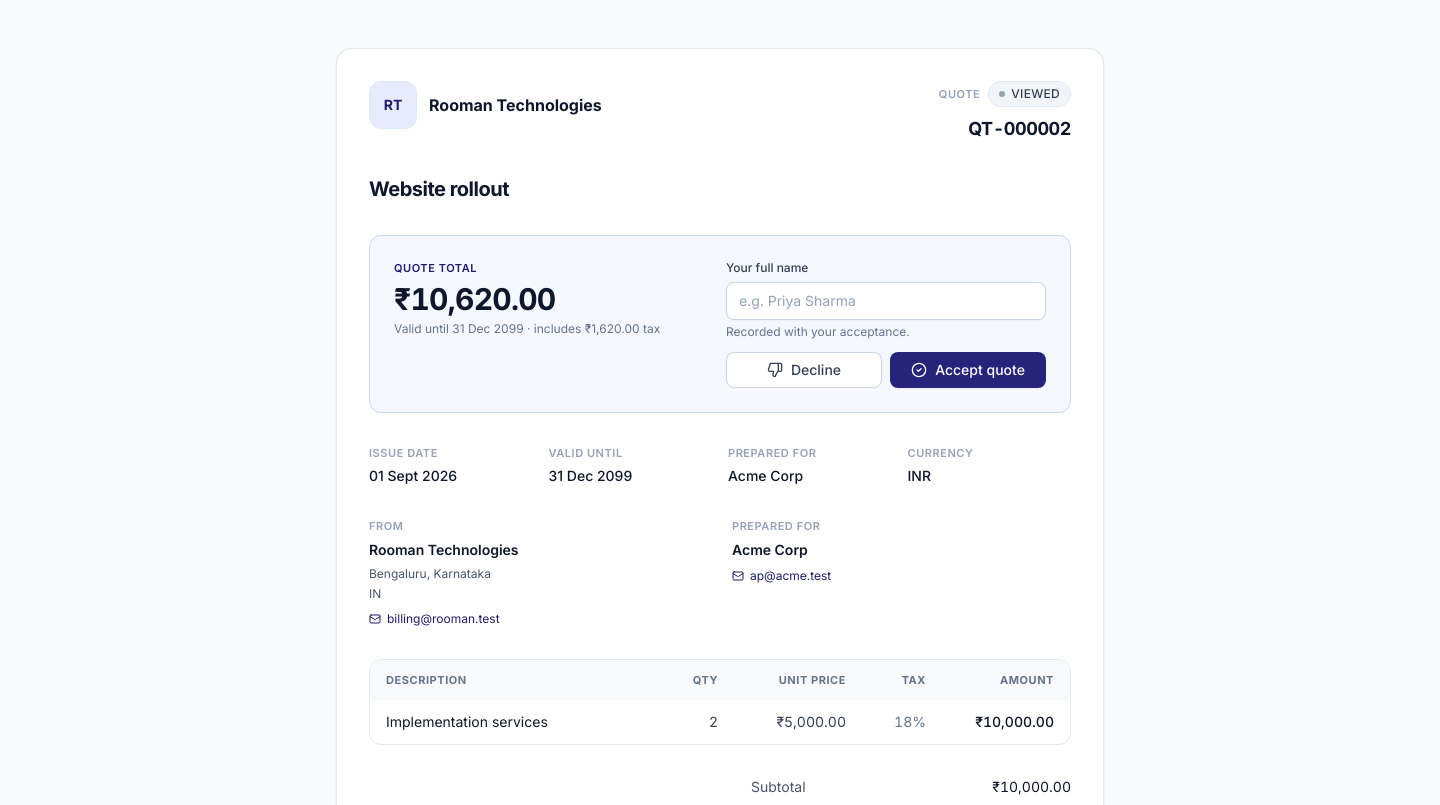
Test: <PublicQuotePage /> customer quote experience › declines with an optional reason, then shows the declined state
Click the button "Decline".
click(804, 370)  # box [726,352,882,388]
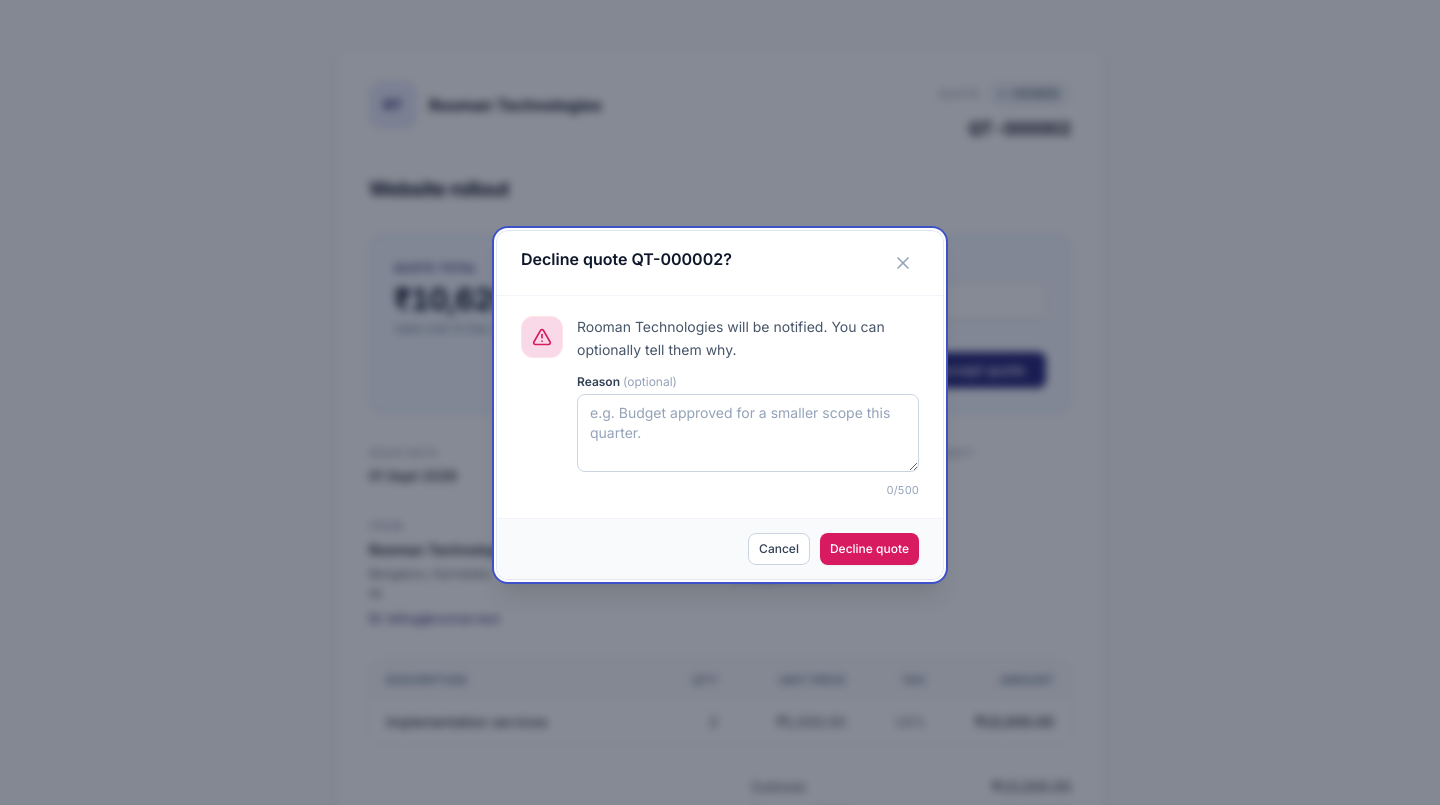
Type "Over budget" into the text box labelled "Reason (optional)".
click(748, 432); type("Over budget")  # box [577,394,919,472]
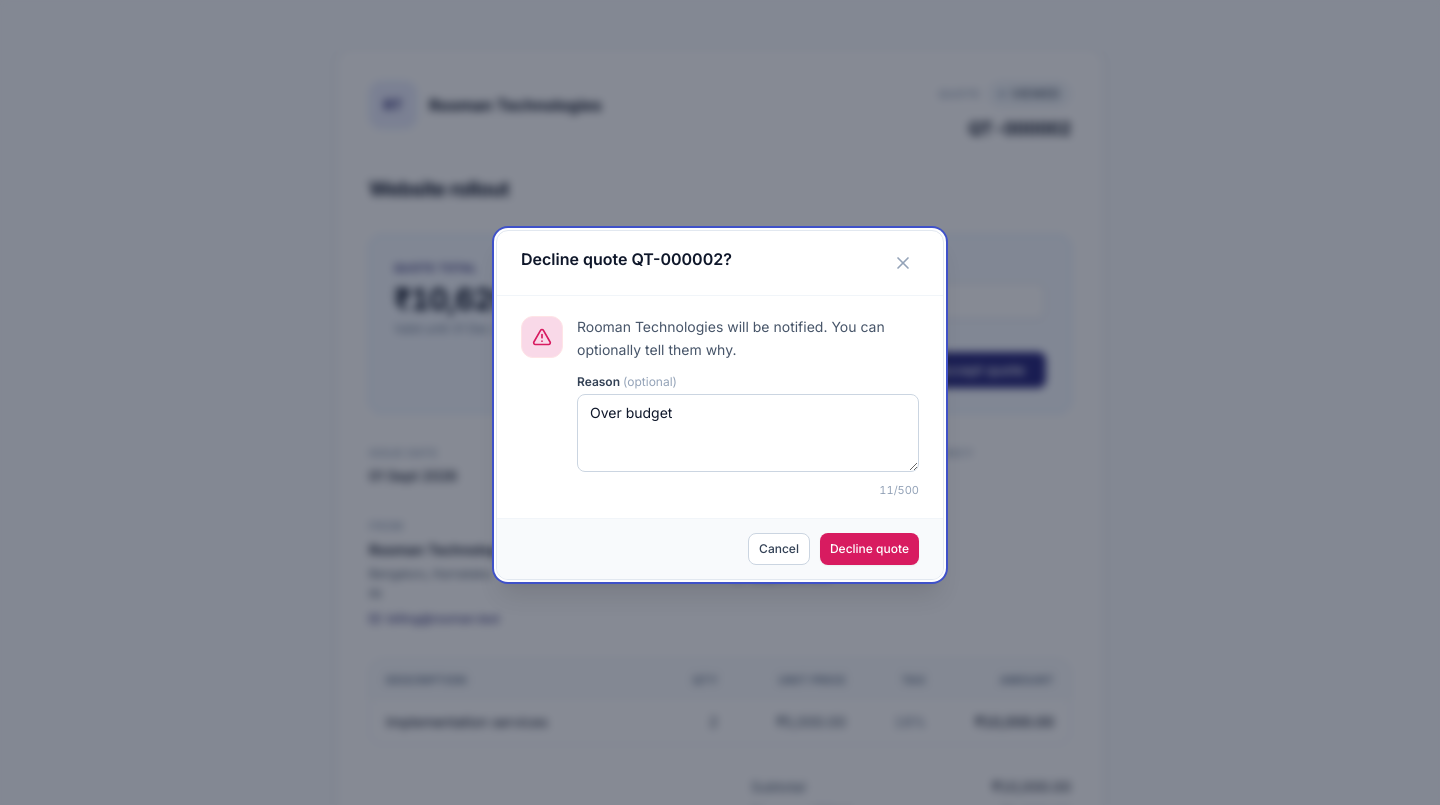
Click the button "Decline quote".
click(869, 549)  # box [820,533,919,565]
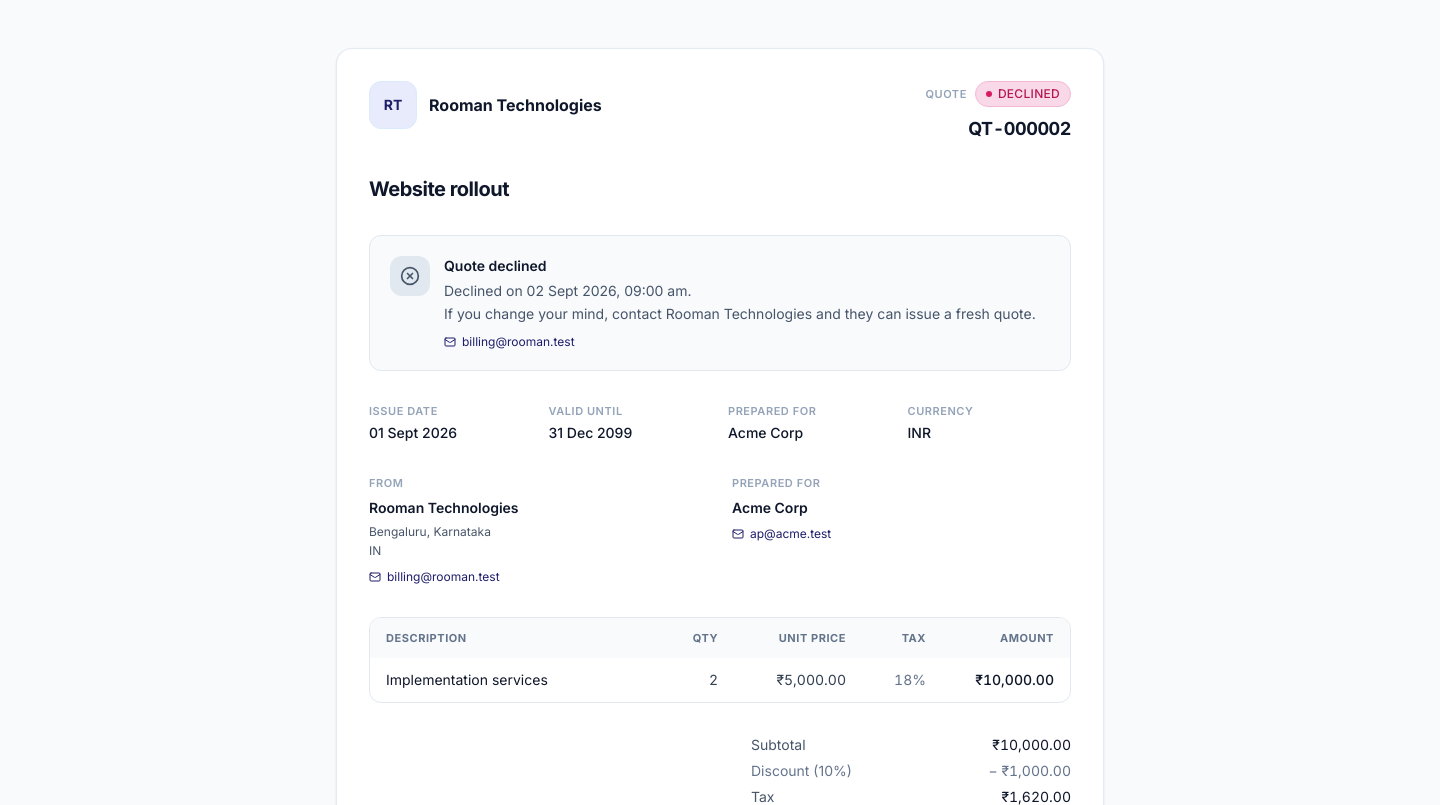
Result: the text "Quote declined" is shown at [444,257,547,274]
Result: the button "Accept quote" is gone
